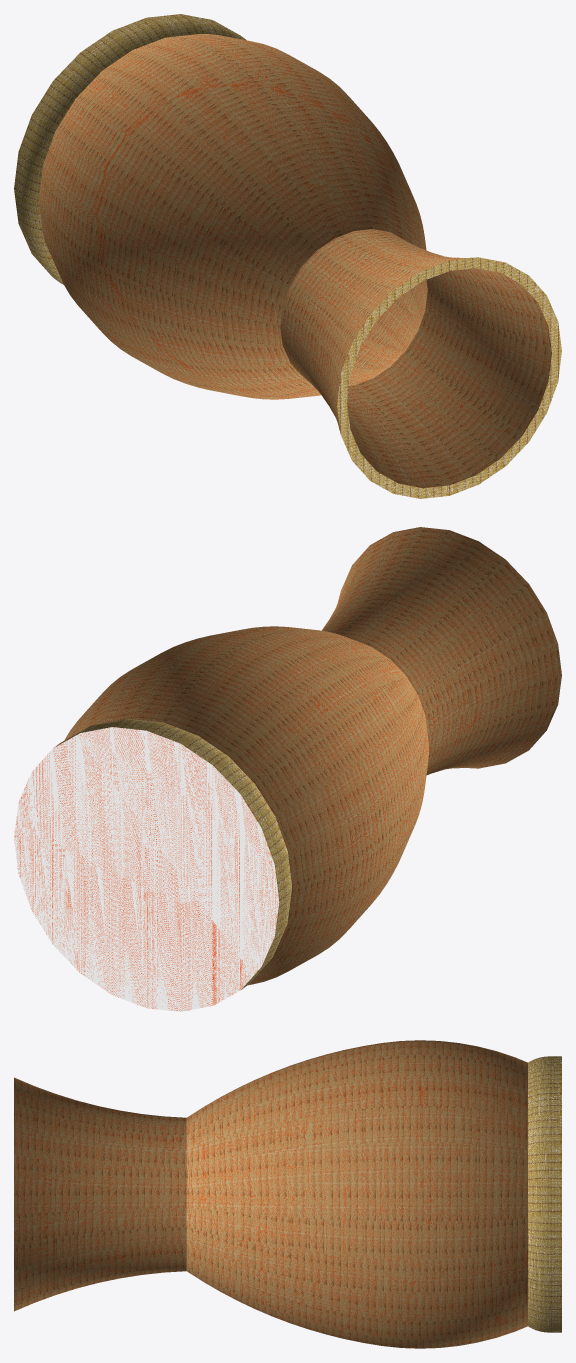
Rendered from model_scale.obj.
3 renders of one model, top to bottom at view 1: azimuth 30°, elevation 25°; view 2: azimuth 150°, elevation 25°; view 3: azimuth 270°, elevation 25°, orthographic. The views are drawn at different scales.
Visible parts, largest first — view 1: mesh1_mesh1-geometry; view 2: mesh1_mesh1-geometry; view 3: mesh1_mesh1-geometry.
Boxes of the visible parts, bbox=[...] form: mesh1_mesh1-geometry: bbox=[14, 14, 561, 498]; mesh1_mesh1-geometry: bbox=[14, 527, 561, 1011]; mesh1_mesh1-geometry: bbox=[14, 1040, 561, 1348].
Bounding box in the file's own units: 0.0939 × 0.0939 × 0.1662.
4 materials, 2 textured.
